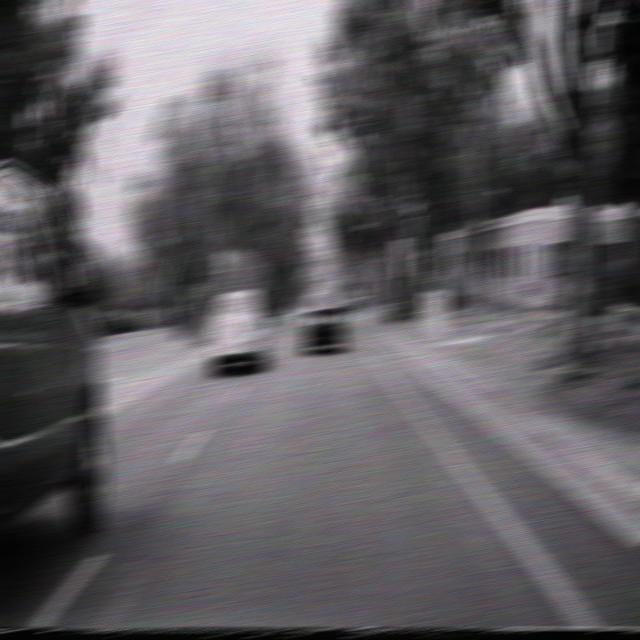speedLimit45: (214, 248, 232, 273), (392, 237, 409, 261)
